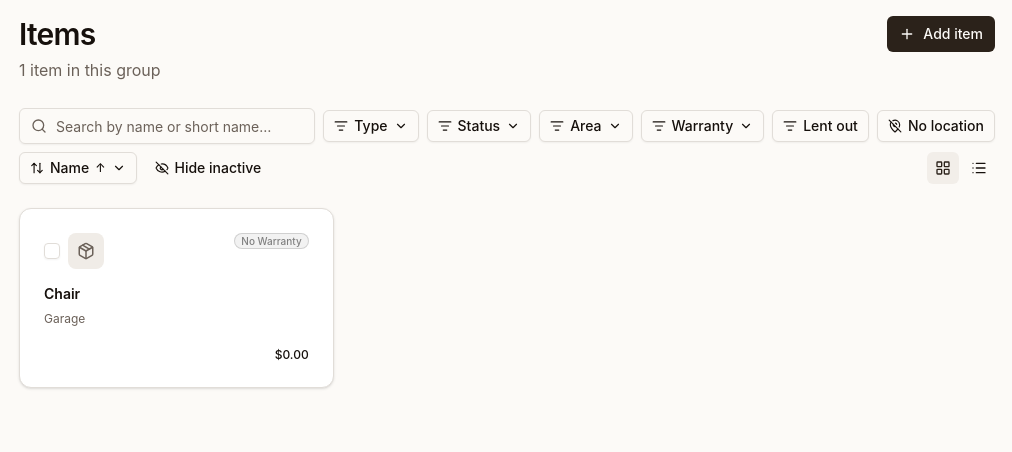
<CommoditiesListPage /> › flips the sort field via the sort dropdown
Expected: the element with test id "commodity-card" is shown, [19,208,334,388]
Click the button with test id "commodities-sort": (78, 168) [19,152,136,184]
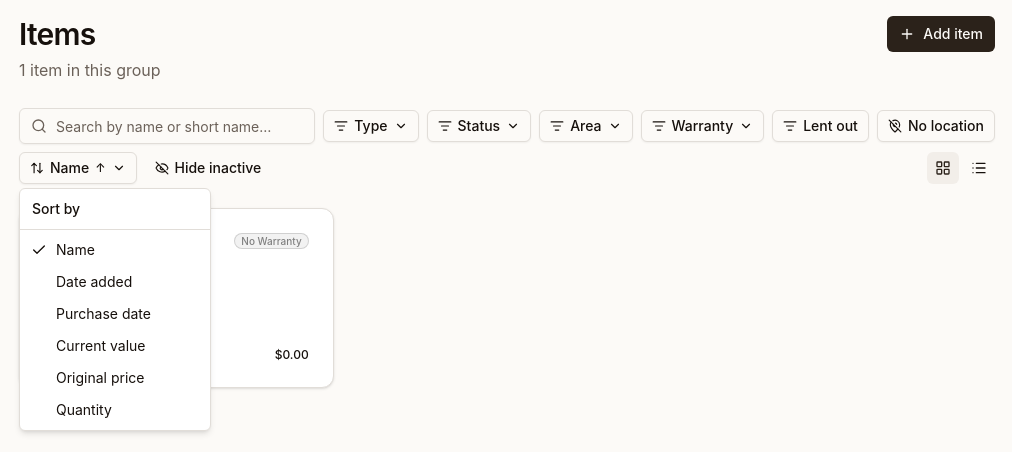
Click the menu item "Date added": (94, 282) [56,273,132,290]
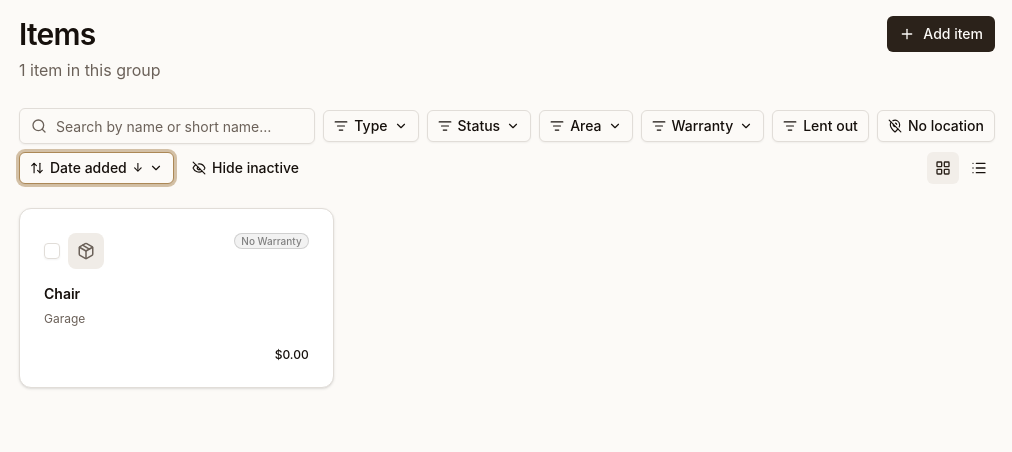
Expected: the button with test id "commodities-sort" shows "Date added", [19,152,174,184]
